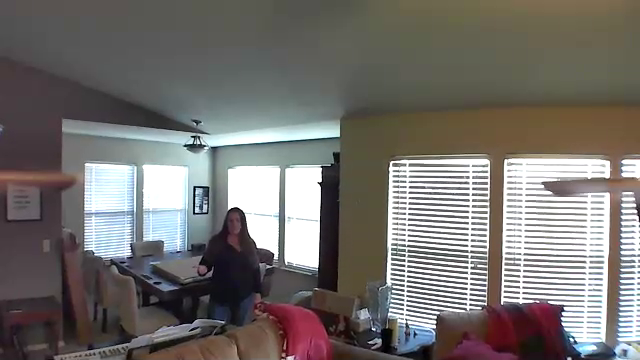land: (189, 261, 215, 277)
